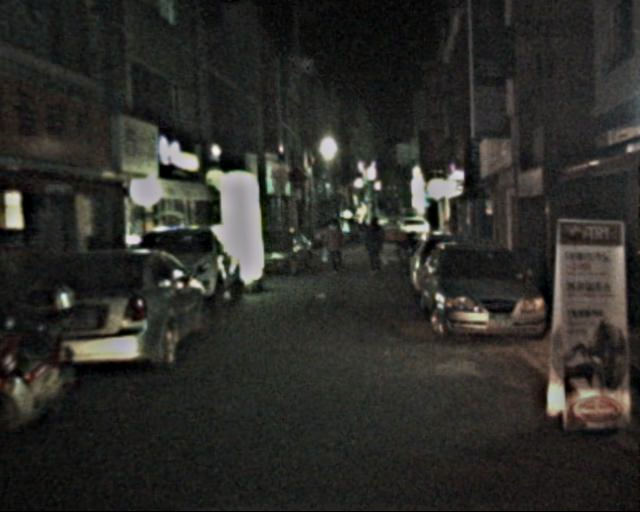person: (362, 214, 388, 277), (323, 217, 347, 276)
